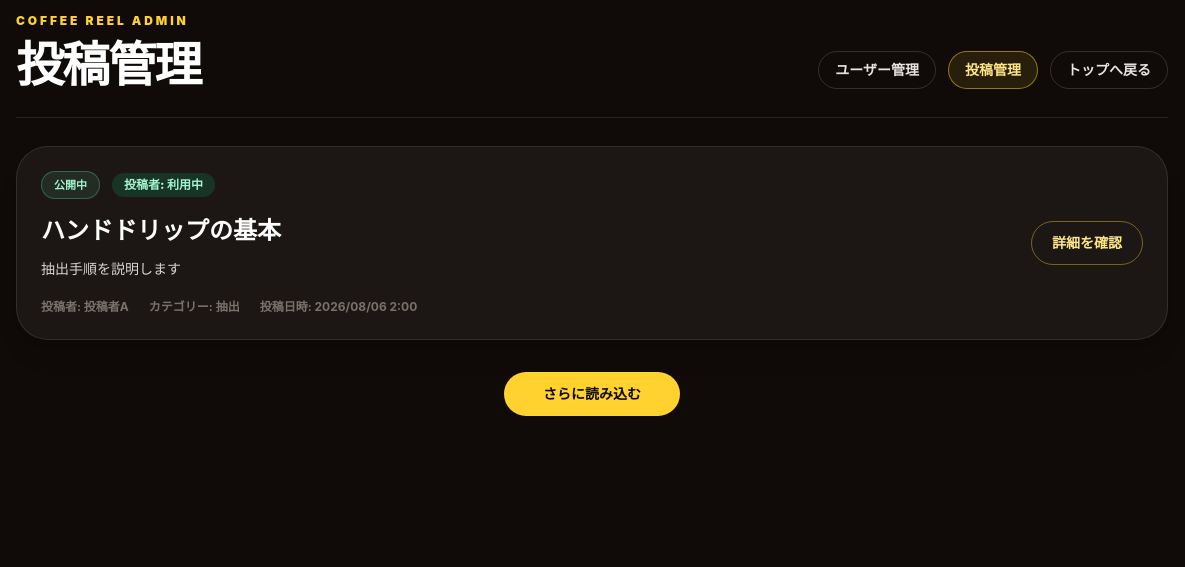
Scenario: AdminVideosPage › 次Cursorで追加取得し、既存一覧の末尾へ追加する
Expected: the heading "ハンドドリップの基本" is shown, [41, 216, 281, 245]
Click the button "さらに読み込む" at (592, 394), box [504, 372, 680, 416]
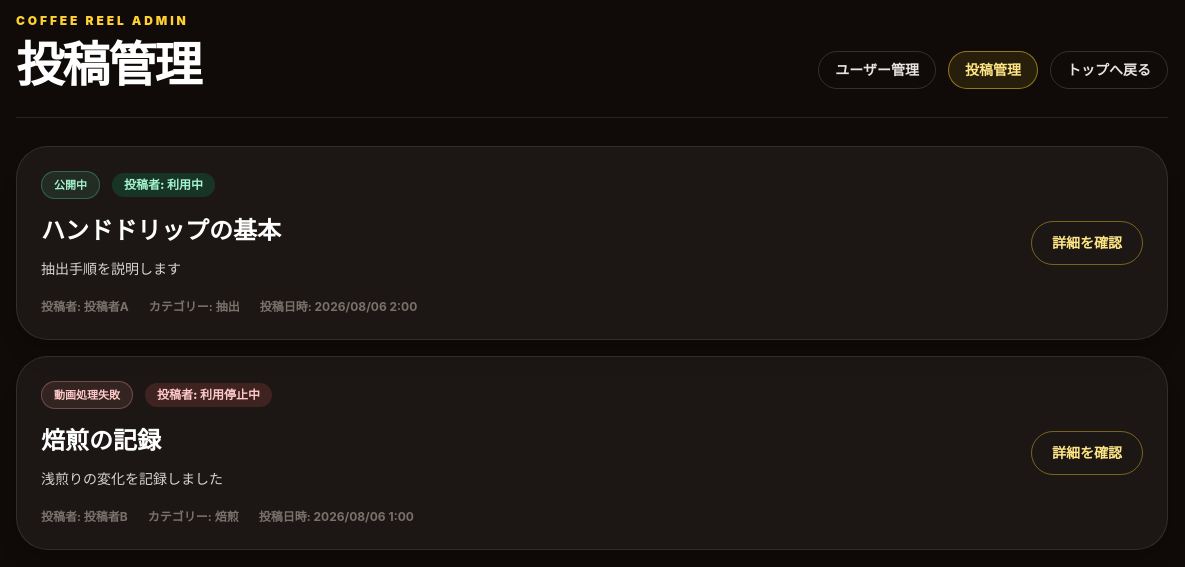
Expected: the heading "ハンドドリップの基本" is shown, [41, 216, 281, 245]
Expected: the heading "焙煎の記録" is shown, [41, 426, 161, 455]
Expected: the button "さらに読み込む" is gone
